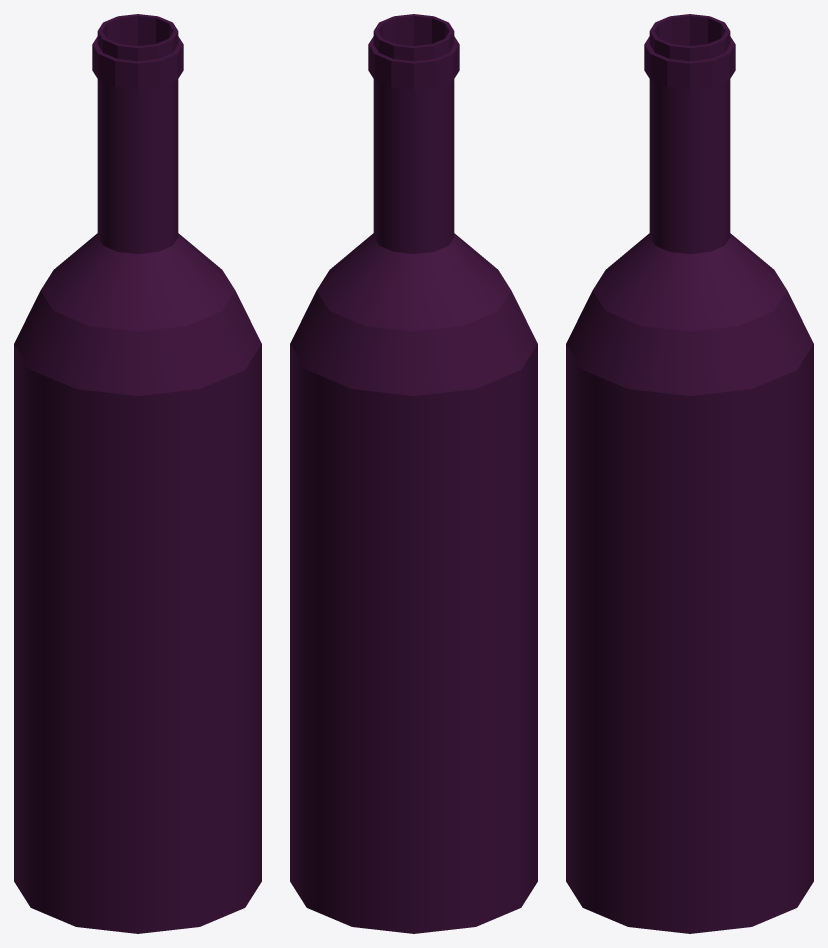
The model's file is ING_Bottle_Wine_v01.fbx.
The picture shows the model from 3 angles, left to right: view 1: azimuth 30°, elevation 25°; view 2: azimuth 150°, elevation 25°; view 3: azimuth 270°, elevation 25°; orthographic projection.
Visible parts, largest first — view 1: Rest_Bar_Set03_WineBottle_01; view 2: Rest_Bar_Set03_WineBottle_01; view 3: Rest_Bar_Set03_WineBottle_01.
Part boxes in pixels (left/top/right/bottom): Rest_Bar_Set03_WineBottle_01: left=14, top=14, right=261, bottom=933; Rest_Bar_Set03_WineBottle_01: left=290, top=14, right=537, bottom=933; Rest_Bar_Set03_WineBottle_01: left=566, top=14, right=813, bottom=933.
Size of the model in its own units: 2.63 by 9.96 by 2.63.
